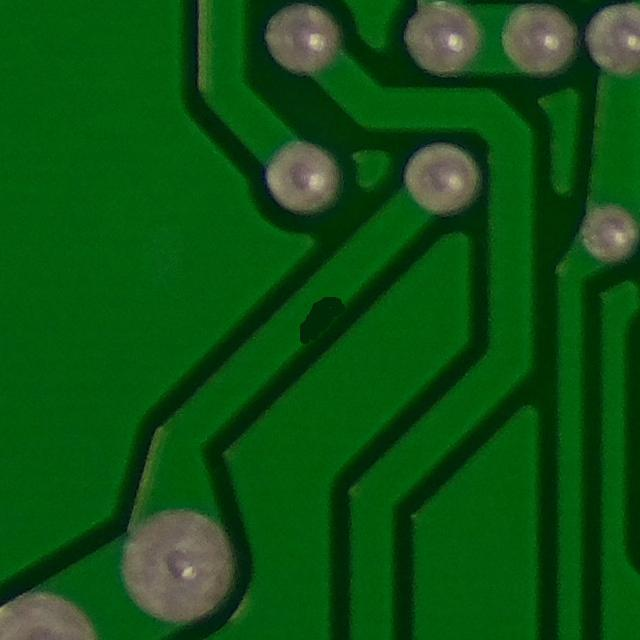mouse_bite: (275, 286, 365, 354)
